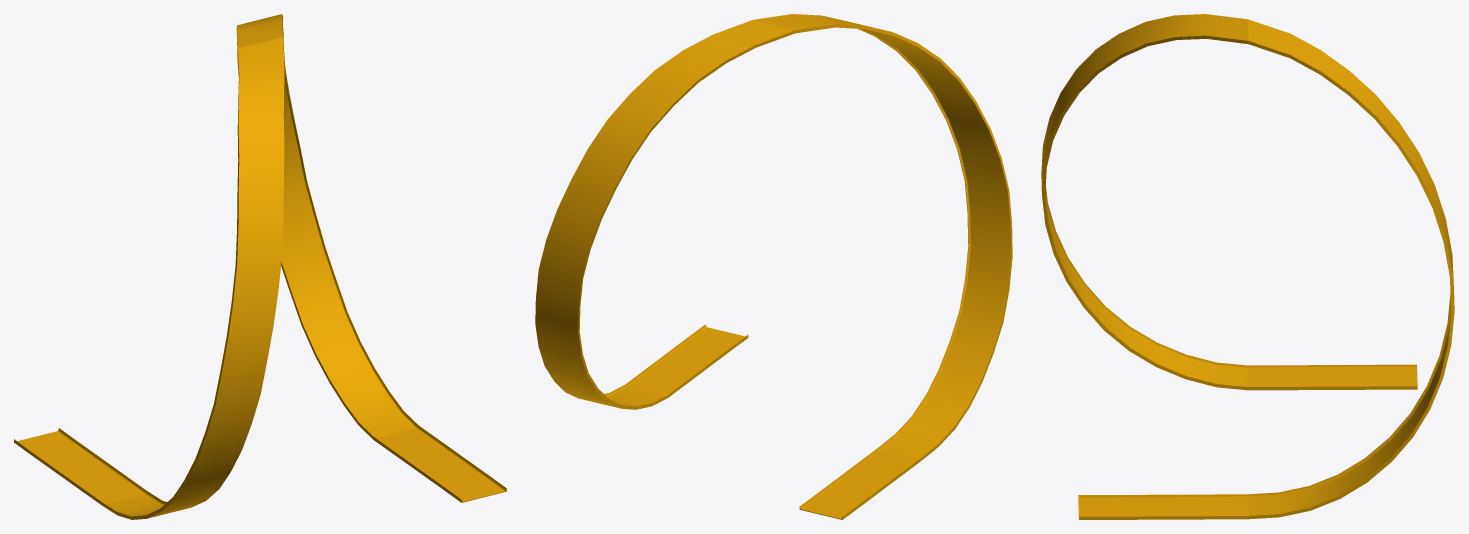
The model's file is 14mTrack_Blockout_Loop.fbx.
3 views of the same model, side by side, from view 1: azimuth 30°, elevation 25°; view 2: azimuth 150°, elevation 25°; view 3: azimuth 270°, elevation 25° (orthographic). The views are drawn at different scales.
Visible parts, largest first — view 1: polySurface91; view 2: polySurface91; view 3: polySurface91.
Part boxes in pixels (left/top/right/bottom): polySurface91: left=14, top=14, right=506, bottom=519; polySurface91: left=535, top=14, right=1012, bottom=519; polySurface91: left=1041, top=14, right=1454, bottom=519.
Size of the model in its own units: 9921 by 12483 by 11294.
